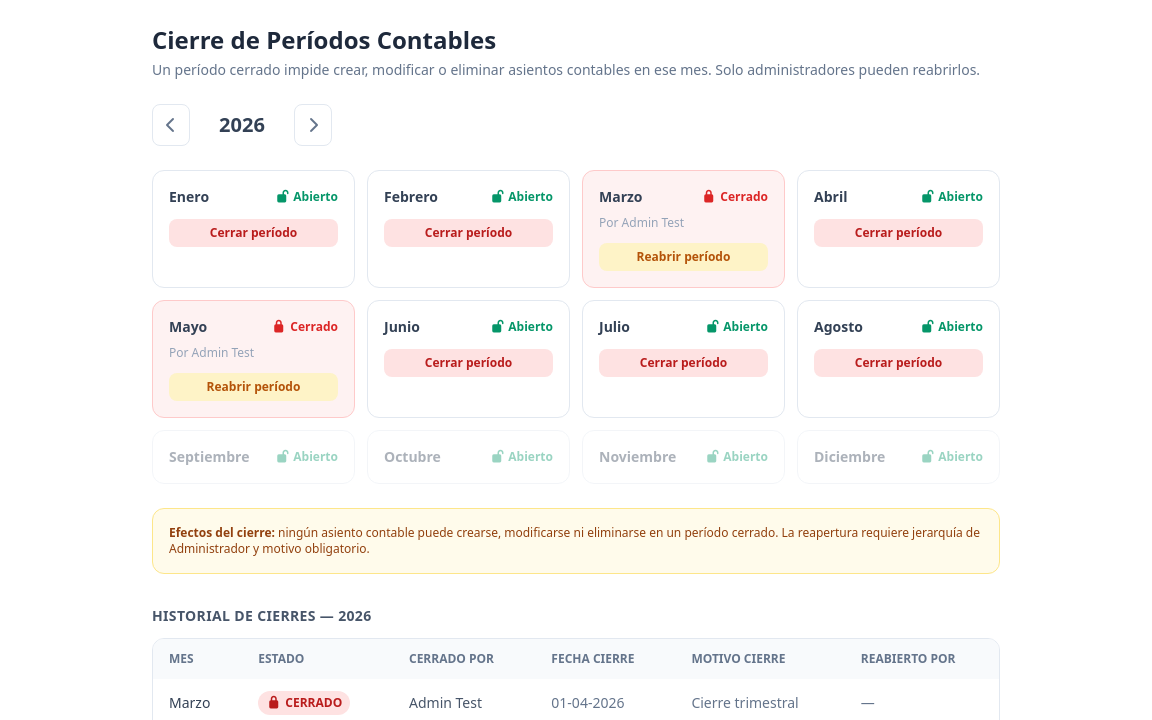
Test: CierrePeriodo — modal reabrir › abre el modal de reapertura para un mes cerrado
Click the 1st button "Reabrir período": [684, 257] box top-left (599, 243), bottom-right (768, 271)
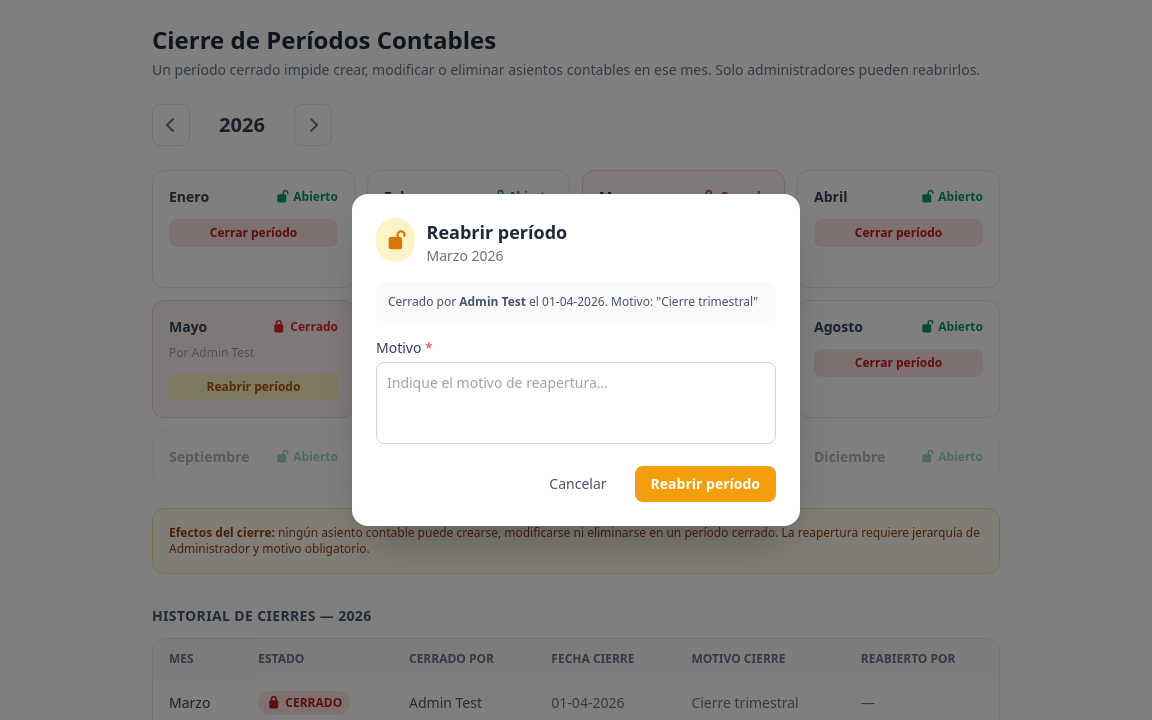
Expected: the heading "Reabrir período" is shown, top-left (426, 218), bottom-right (567, 246)
